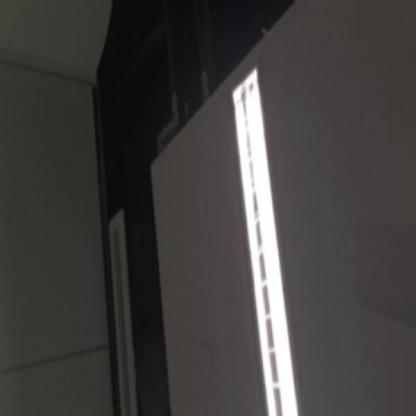light_on: (221, 63, 310, 415)
